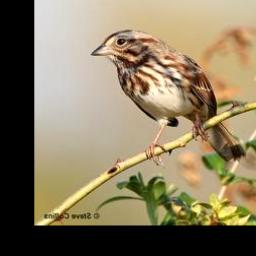Sparrow: (91, 28, 248, 169)
